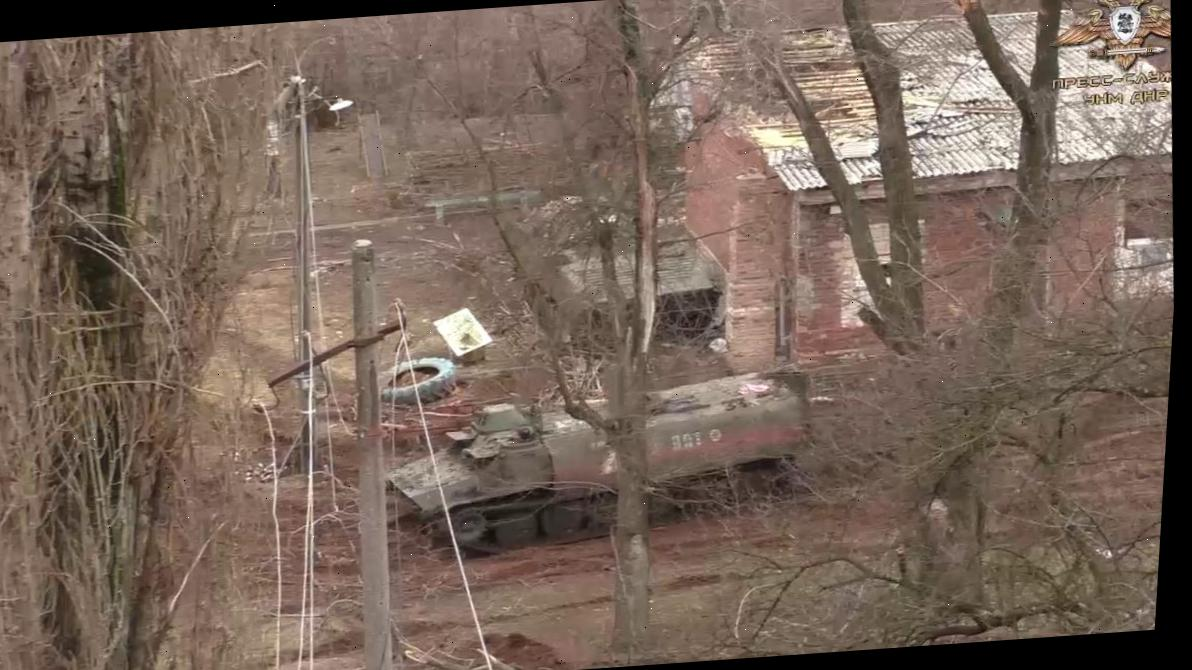tank: (374, 364, 822, 562), (499, 186, 738, 372)
